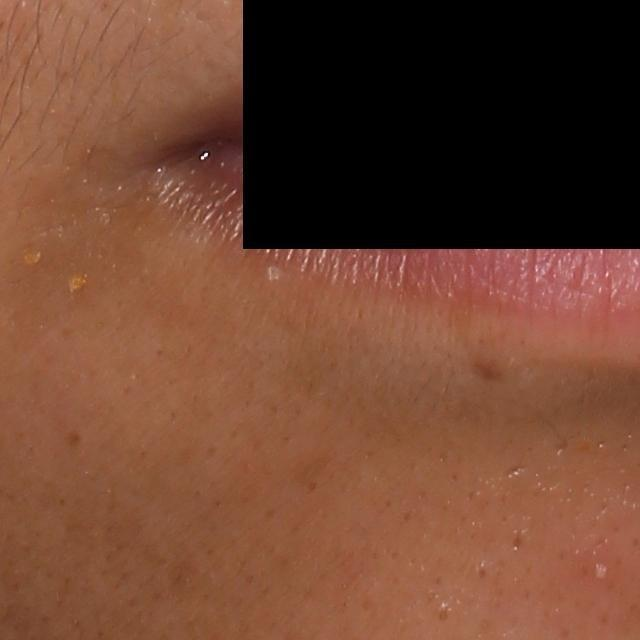comedo: (438, 603, 455, 622)
nevus: (475, 357, 507, 385)
other: (60, 271, 98, 296)
pustule: (588, 557, 615, 584)
